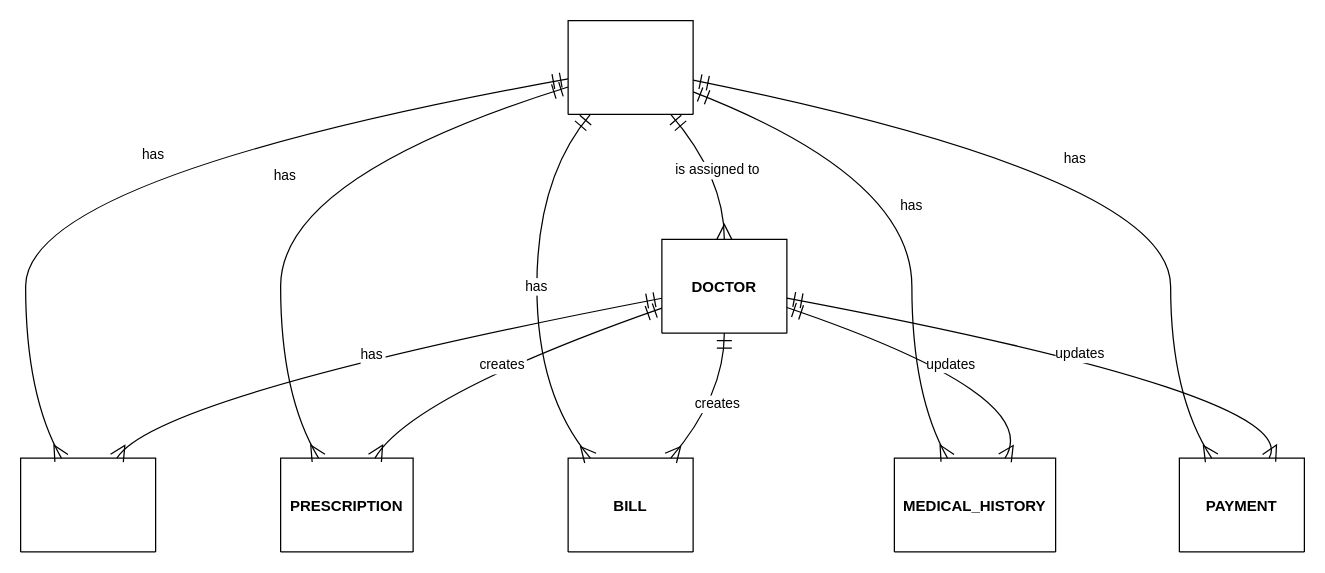
Some shapes in this 1325 by 573 pixel diagram are drawn without their labels. Here are the shapes that lost their labels. From the top down, the centre of each, then its label:
At (x=630, y=66): "CUSTOMER".
At (x=87, y=504): "APPOINTMENT".
